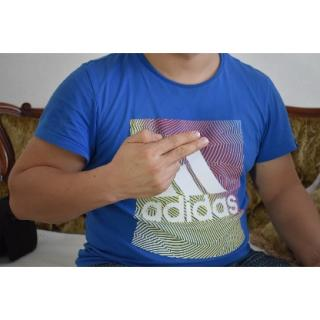AYN: (110, 126, 212, 207)
